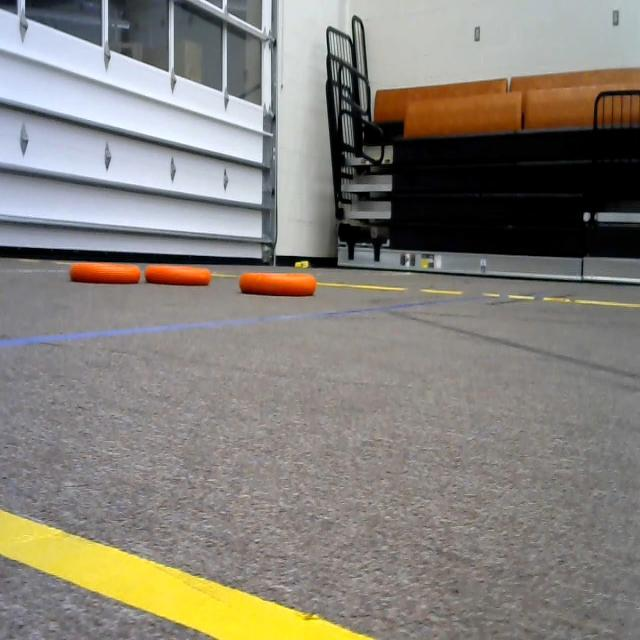note: (63, 244, 145, 290), (237, 270, 321, 300), (143, 257, 209, 293)
